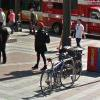Bicycle: (34, 43, 82, 98)
